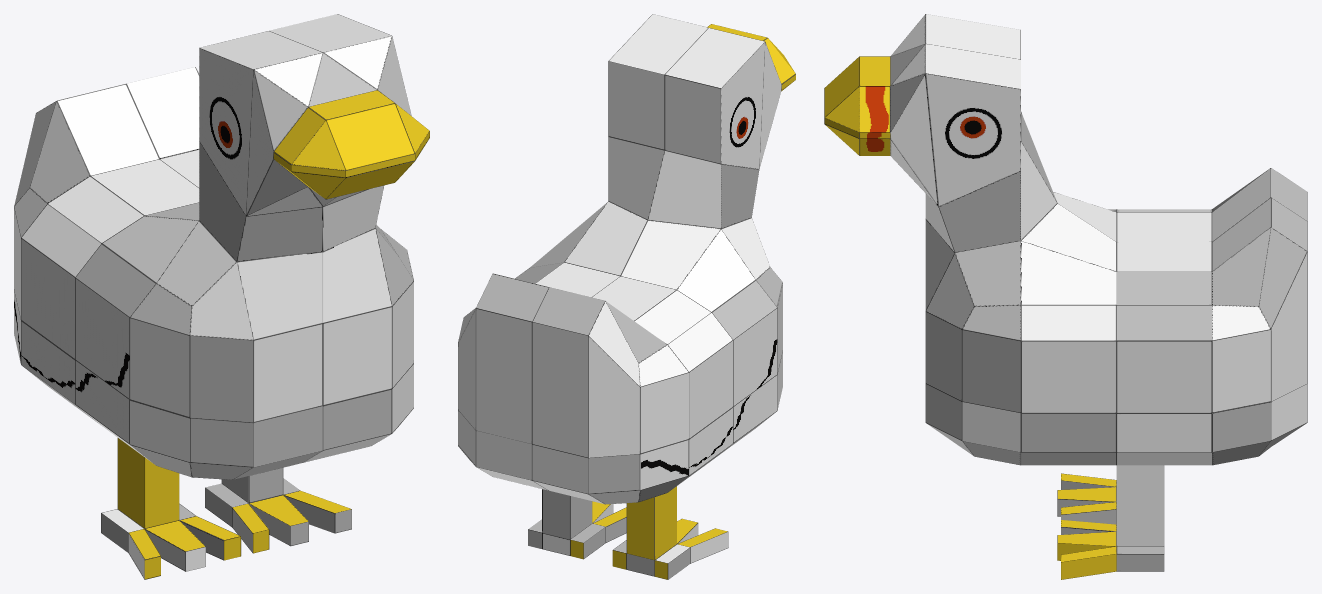
File: cursed_chicken.obj
3 renders of one model, left to right at view 1: azimuth 30°, elevation 25°; view 2: azimuth 150°, elevation 25°; view 3: azimuth 270°, elevation 25°, orthographic. The views are drawn at different scales.
Parts seen in each view (by area): view 1: chicken_Cube; view 2: chicken_Cube; view 3: chicken_Cube.
Part boxes in pixels (x1,y1,x2,y2): chicken_Cube: [14, 14, 429, 579]; chicken_Cube: [458, 14, 795, 579]; chicken_Cube: [824, 14, 1307, 579].
Bounding box in the file's own units: 0.8449 × 1.63 × 1.45.
1 material, 1 textured.
